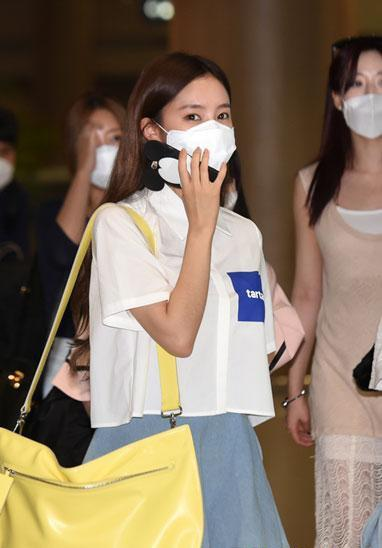OK: (165, 99, 238, 172), (74, 128, 140, 194), (340, 66, 382, 142), (1, 145, 25, 192)
